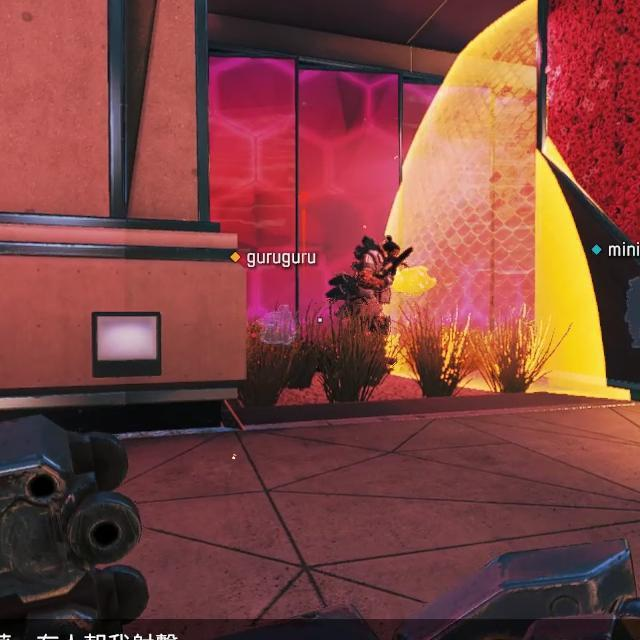avatar: (325, 232, 401, 320)
